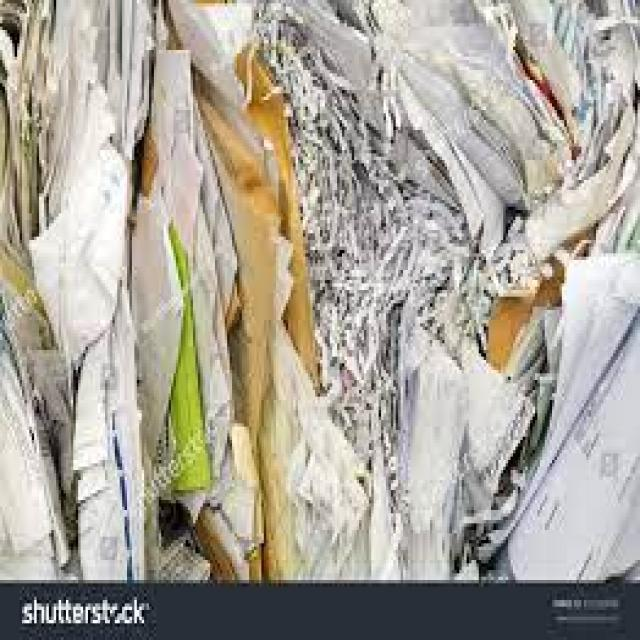Paper -Biodegradable-: (0, 0, 640, 580)
